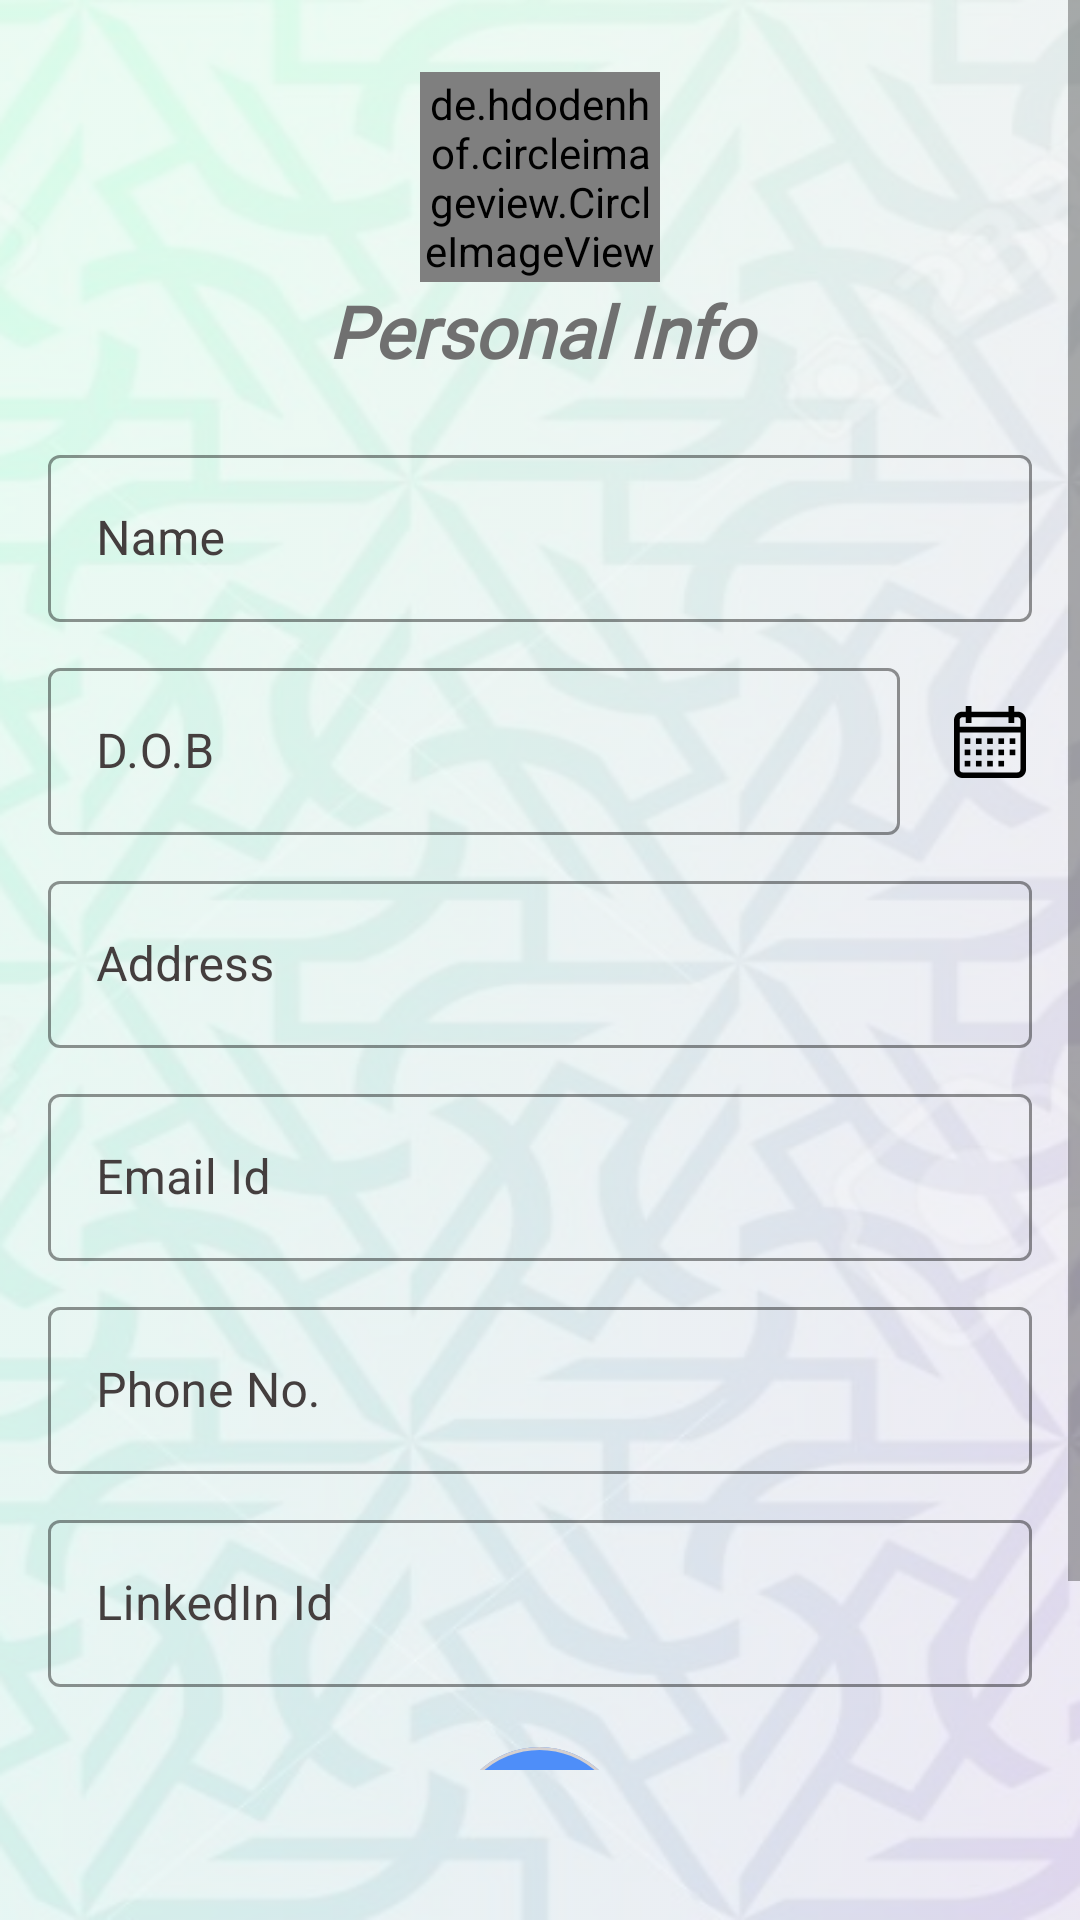

Icons on this 1080w x 1920h Android screen, each with the point to tap as (x=x, y=y):
calendar: (x=990, y=742)
